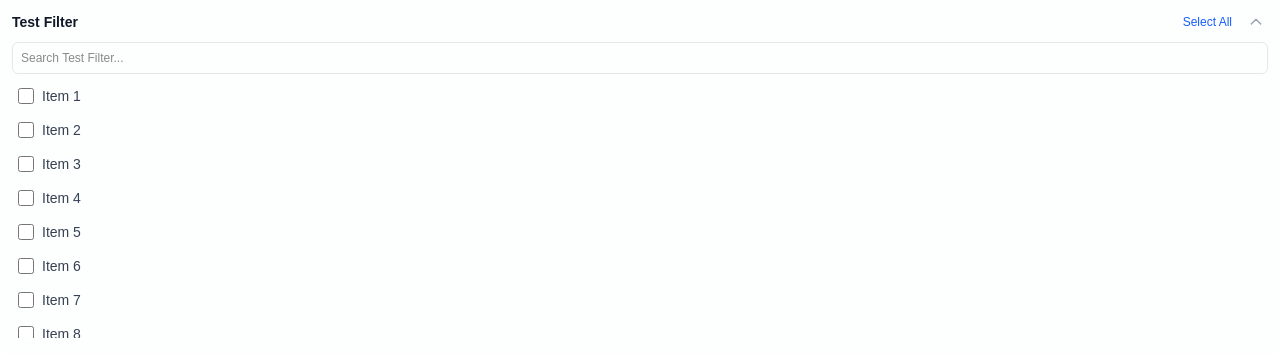
FilterGroup › filters options based on search term
The image size is (1280, 355).
Type "Item 1" into the field with placeholder "Search Test Filter..." at x=640, y=58, box [12,42,1268,74]
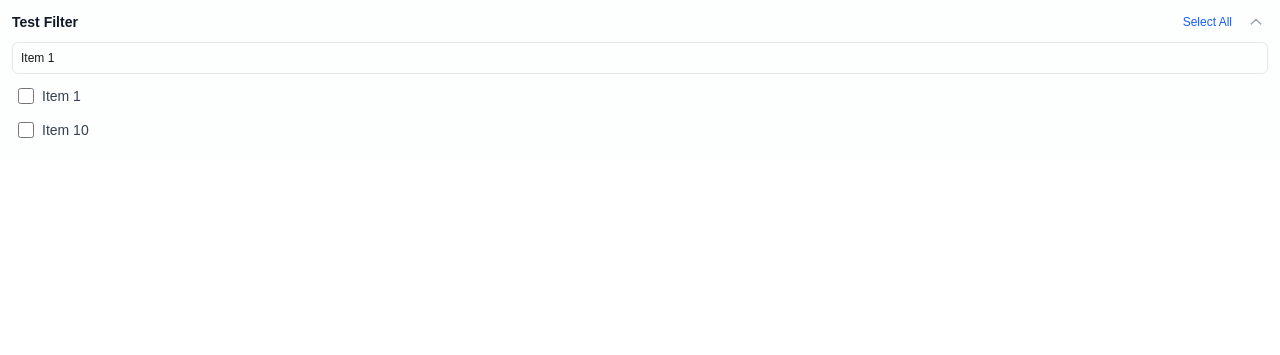
Expected: the text "Item 1" is shown, [42,88,81,104]
Expected: the text "Item 2" is gone
